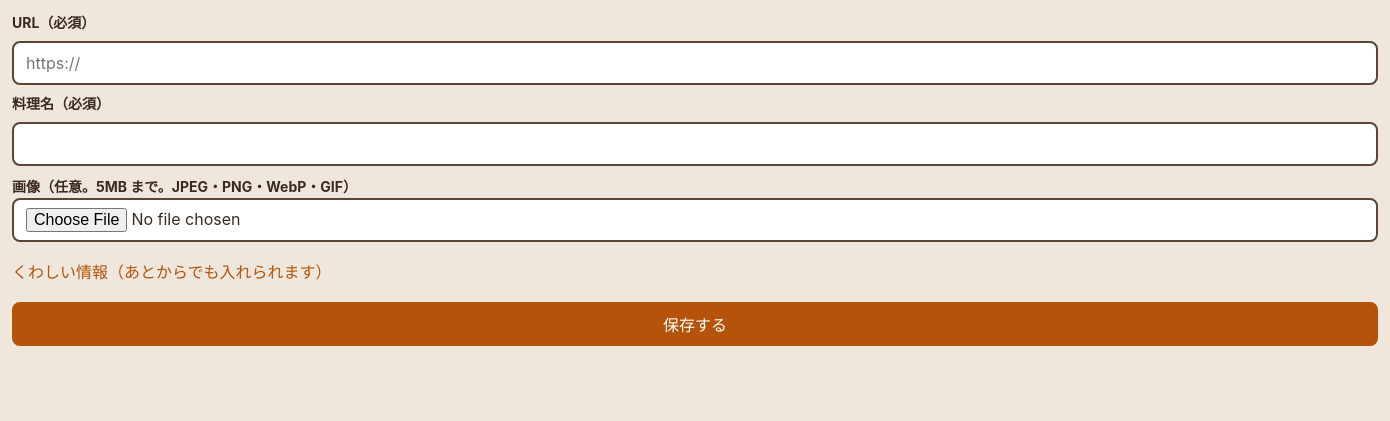
Test case: 保存の画面の検証の表示（BR3.1〜BR3.5） › URL と料理名が空なら、項目ごとにエラーを出し、送信しない
Click the button with test id "submit-button". click: (695, 324)
box: [12,302,1378,346]
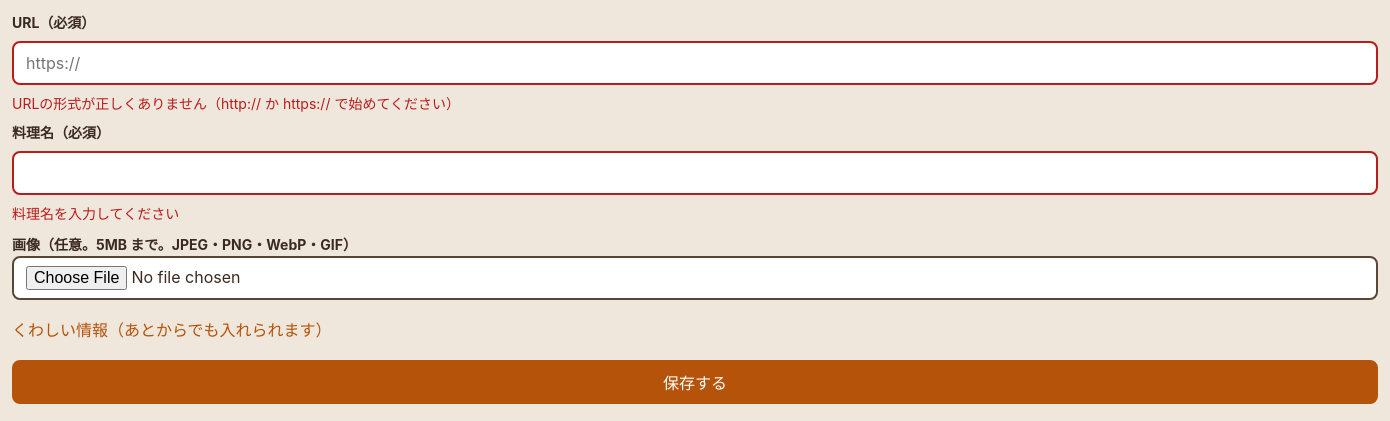
Check: the message with test id "error-name" reads "料理名を入力してください", box [12,205,179,222]
Check: the message "URLの形式が正しくありません（http:// か https:// で始めてください）" is shown, box [12,95,460,112]
